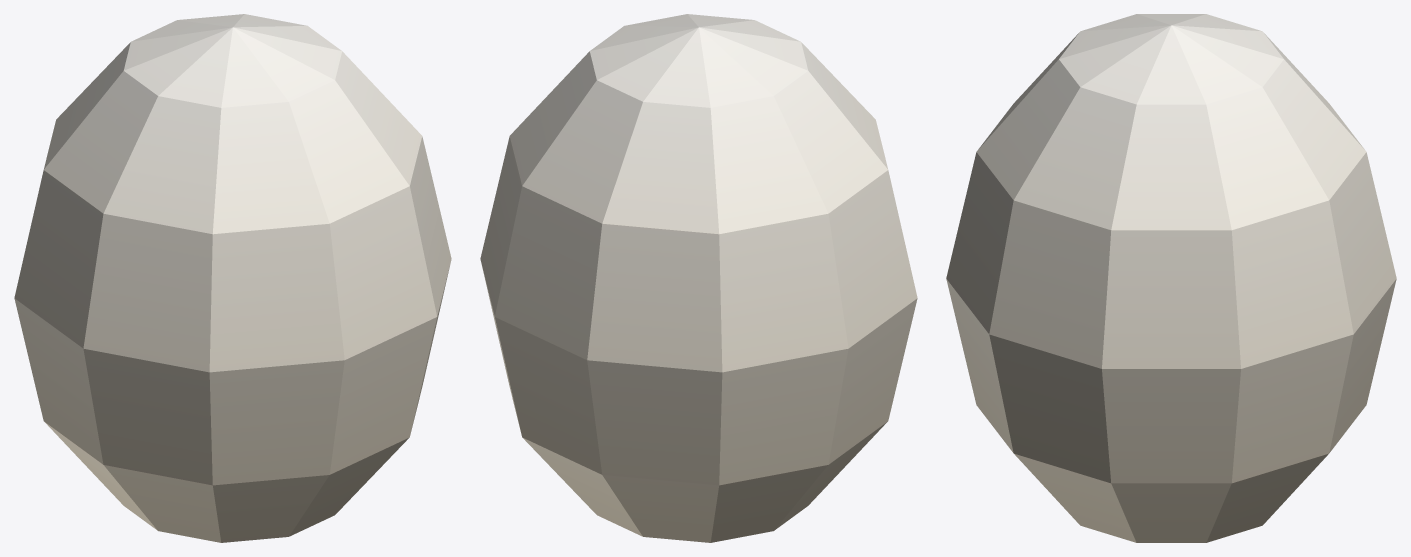
The model's file is egg_2.glb.
3 renders of one model, left to right at view 1: azimuth 30°, elevation 25°; view 2: azimuth 150°, elevation 25°; view 3: azimuth 270°, elevation 25°, orthographic.
Parts seen in each view (by area): view 1: egg_2; view 2: egg_2; view 3: egg_2.
Boxes of the visible parts, bbox=[...] form: egg_2: bbox=[14, 14, 451, 542]; egg_2: bbox=[480, 14, 917, 542]; egg_2: bbox=[946, 14, 1396, 542].
Size of the model in its own units: 0.0667 by 0.0811 by 0.0701.
1 material, 1 textured.
